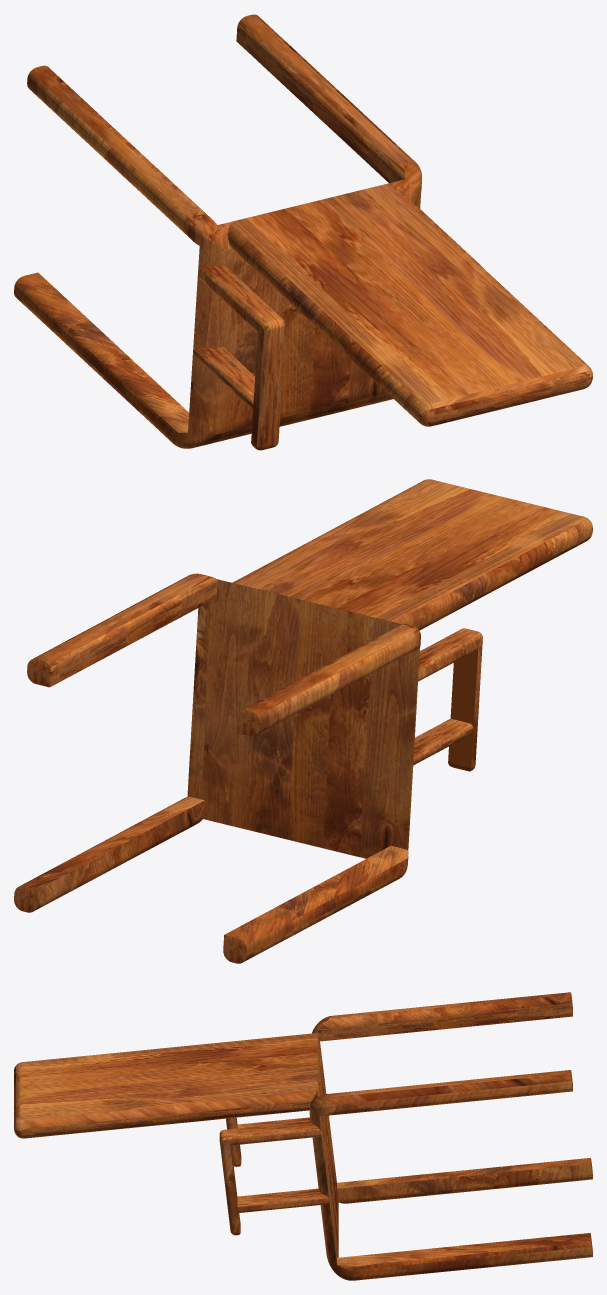
File: ChairWW1.OBJ
3 views of the same model, one above another, from view 1: azimuth 30°, elevation 25°; view 2: azimuth 150°, elevation 25°; view 3: azimuth 270°, elevation 25° (orthographic). The views are drawn at different scales.
Visible parts, largest first — view 1: ZBrush_defualt_group; view 2: ZBrush_defualt_group; view 3: ZBrush_defualt_group.
Part boxes in pixels (x1=…): ZBrush_defualt_group: x1=14, y1=14, x2=592, y2=450; ZBrush_defualt_group: x1=14, y1=479, x2=592, y2=963; ZBrush_defualt_group: x1=14, y1=992, x2=592, y2=1280.
Size of the model in its own units: 50.8 by 57 by 144.
1 material, 1 textured.
